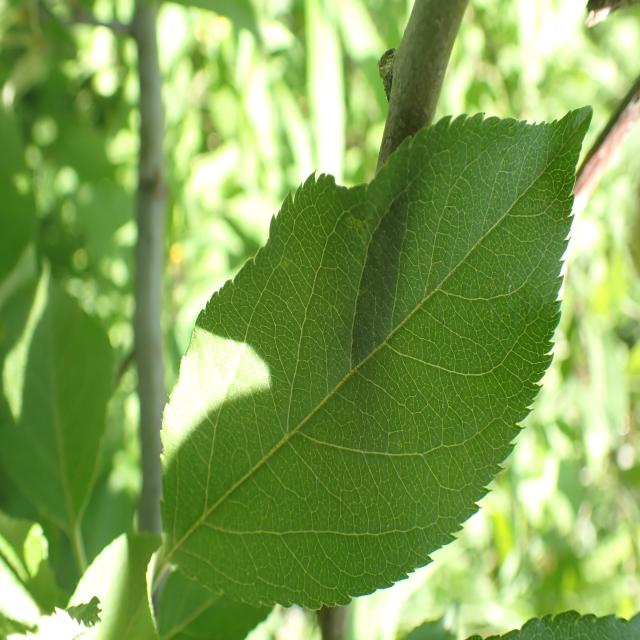healthy: (160, 104, 593, 612), (0, 250, 117, 589), (66, 530, 162, 640)
